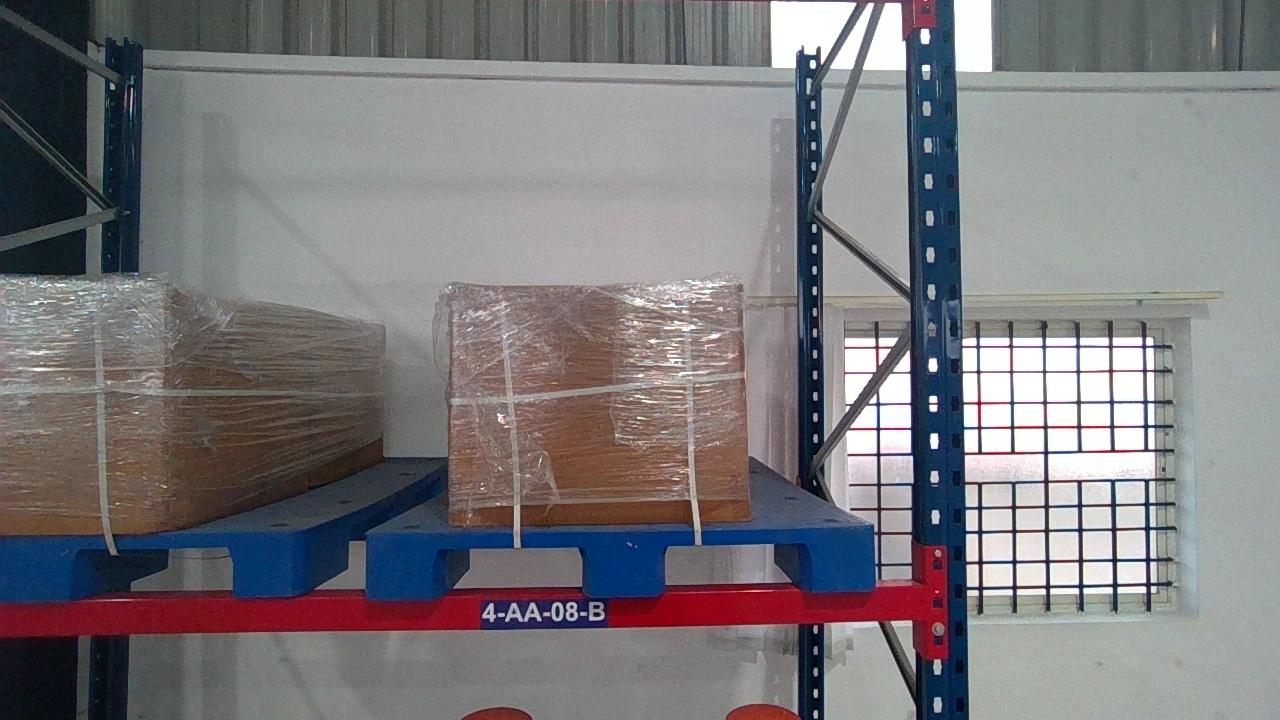h_rack: (2, 587, 925, 631)
small_pallet: (361, 525, 876, 592), (0, 532, 301, 592)
